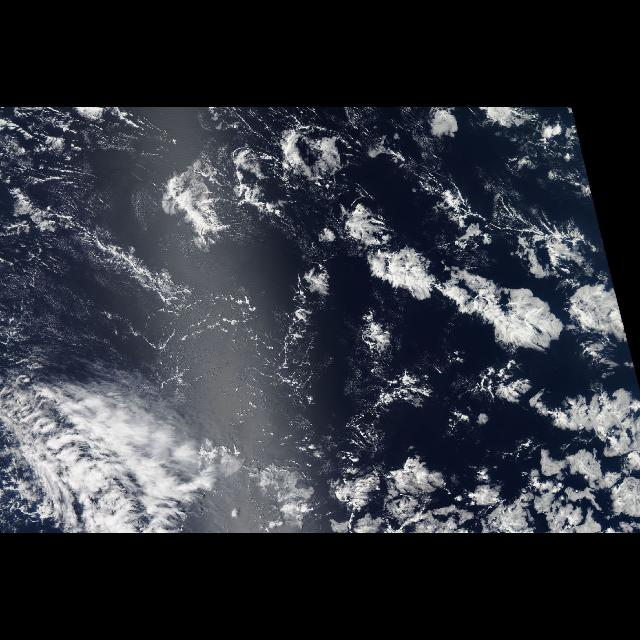Fish: (339, 217, 569, 355)
Flower: (168, 121, 640, 534)
